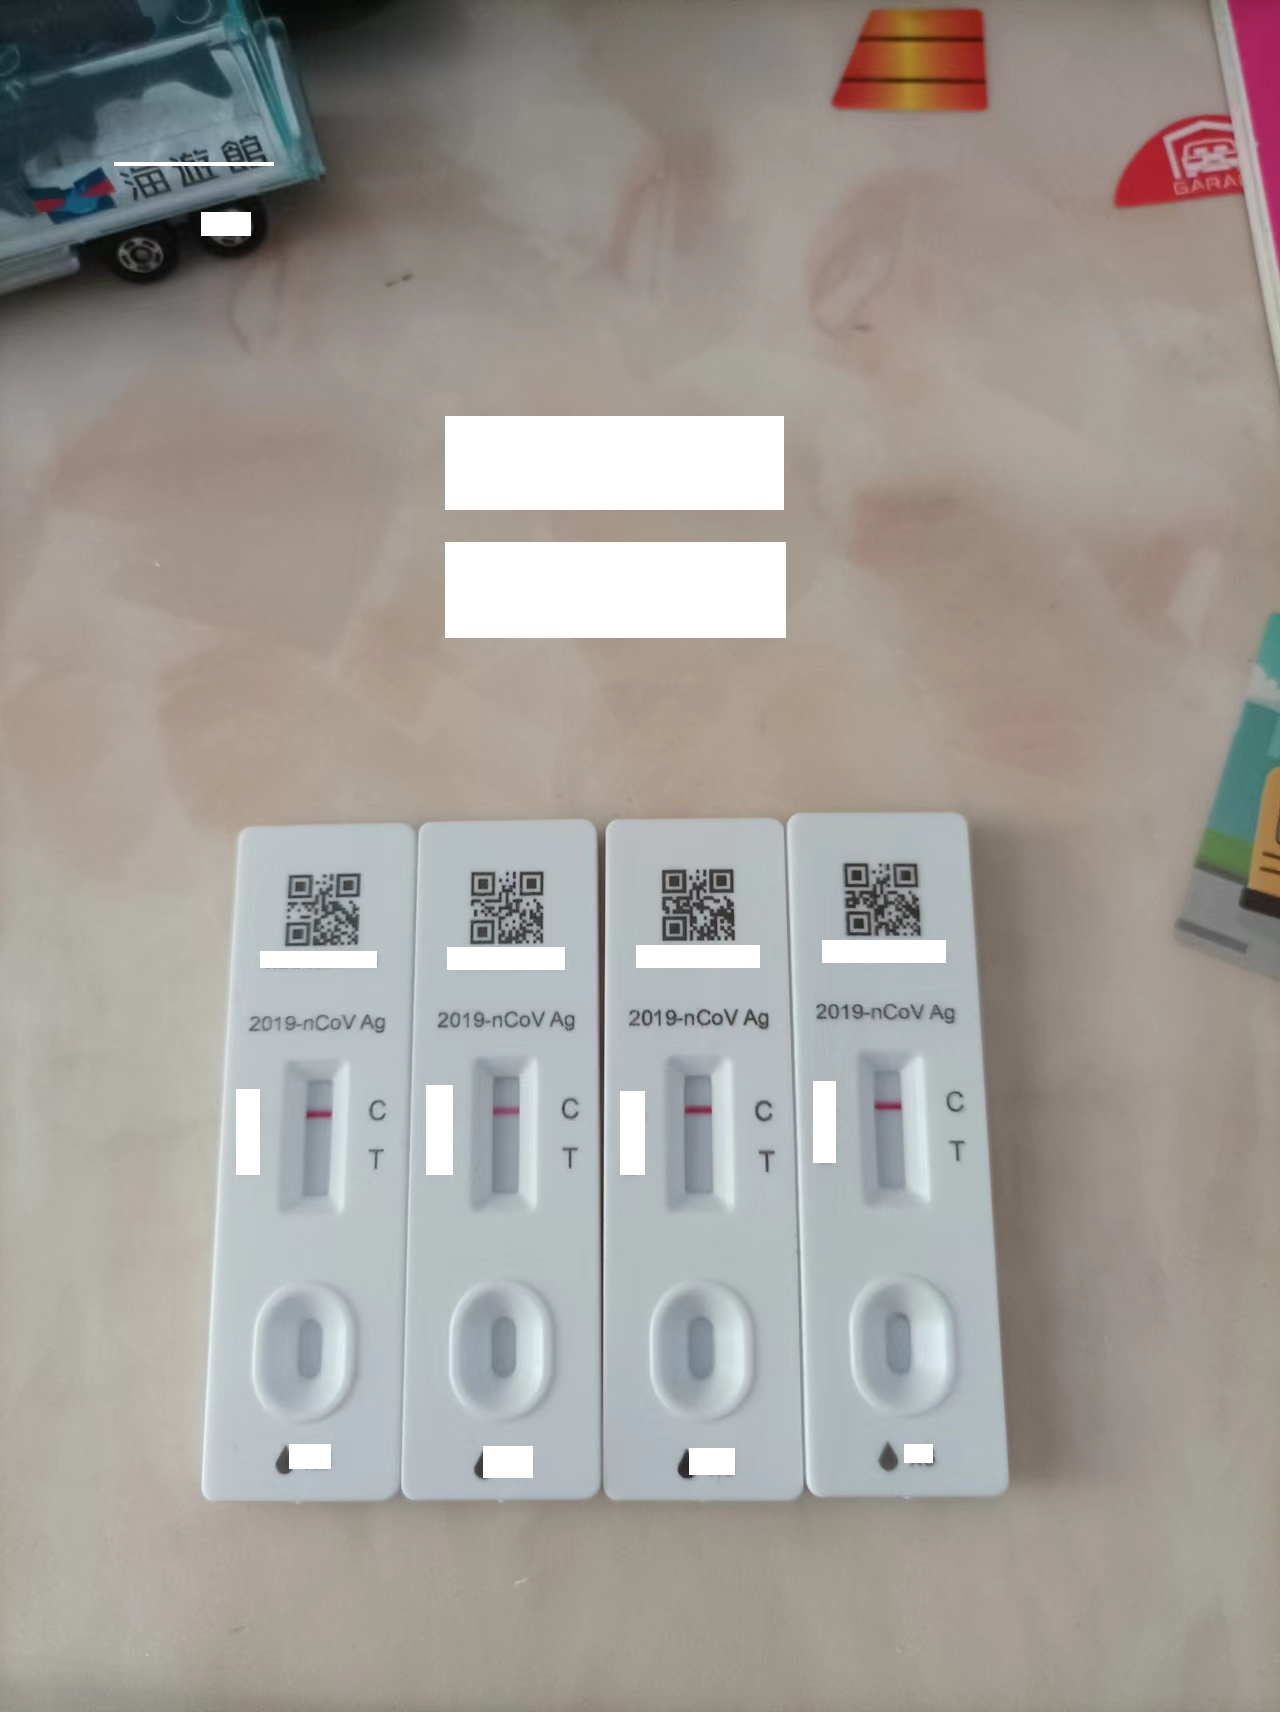negative: (280, 1054, 350, 1216), (663, 1050, 730, 1214), (468, 1054, 534, 1217), (858, 1050, 926, 1201)
